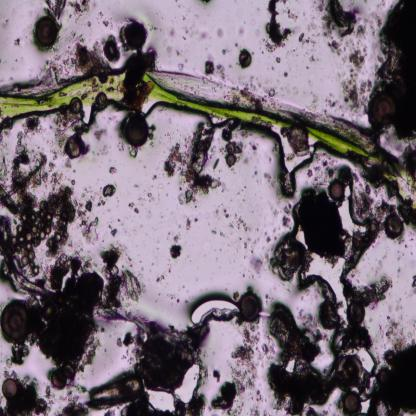Air bubble: (189, 296, 239, 326), (174, 362, 200, 401), (142, 387, 175, 413), (354, 347, 375, 374)
Background material: (36, 248, 107, 384), (319, 284, 378, 415), (265, 300, 319, 416), (376, 0, 416, 147), (134, 323, 209, 396), (339, 180, 382, 282), (293, 186, 347, 262), (178, 120, 219, 205), (375, 343, 415, 416), (228, 322, 260, 400), (36, 185, 76, 242), (42, 32, 84, 82), (0, 375, 51, 416), (50, 106, 88, 159), (270, 232, 308, 284), (340, 51, 372, 112), (73, 186, 105, 245), (7, 151, 51, 193), (0, 213, 30, 271), (100, 241, 122, 311), (264, 0, 291, 54), (320, 0, 355, 41), (74, 40, 111, 76), (387, 189, 416, 230), (210, 376, 242, 412), (282, 117, 311, 156), (382, 314, 411, 352), (307, 150, 337, 186), (16, 188, 38, 233), (294, 274, 334, 298), (360, 276, 392, 304), (120, 265, 143, 302), (163, 141, 184, 179), (174, 398, 208, 416), (0, 184, 19, 216), (103, 35, 123, 65), (7, 342, 28, 368), (69, 0, 92, 23), (220, 119, 240, 141), (22, 115, 43, 135), (44, 236, 60, 260), (113, 331, 134, 349), (250, 253, 264, 280), (282, 172, 295, 200), (16, 130, 31, 154), (0, 155, 9, 191), (262, 341, 276, 364), (234, 213, 250, 232), (247, 401, 265, 416), (356, 19, 368, 40), (328, 38, 342, 56), (103, 183, 117, 201), (90, 147, 112, 158), (204, 59, 216, 79), (93, 126, 106, 144), (99, 11, 112, 29), (303, 404, 322, 416), (183, 23, 198, 38), (169, 243, 183, 259), (325, 92, 339, 108), (115, 118, 125, 139), (52, 172, 63, 191), (368, 18, 377, 41), (264, 171, 276, 188), (96, 90, 107, 108), (281, 214, 293, 230), (308, 93, 319, 110), (409, 271, 416, 297), (252, 390, 266, 403), (121, 350, 134, 364), (237, 76, 249, 91), (216, 64, 226, 82), (11, 34, 23, 49), (114, 141, 126, 155), (212, 366, 221, 384), (299, 30, 309, 46), (282, 203, 294, 216), (286, 7, 297, 21), (148, 123, 157, 140), (164, 40, 174, 55), (393, 298, 403, 313), (264, 85, 276, 97), (124, 254, 134, 268), (148, 24, 162, 34), (250, 237, 258, 254), (236, 139, 244, 156), (373, 13, 382, 28), (199, 29, 210, 41), (272, 142, 282, 155), (218, 181, 228, 193), (167, 25, 176, 38), (63, 157, 72, 170), (108, 165, 118, 176), (249, 74, 255, 92), (154, 274, 164, 284), (245, 284, 255, 294), (109, 226, 118, 237), (173, 233, 182, 244), (0, 128, 9, 139), (130, 146, 138, 158), (249, 142, 257, 154), (186, 217, 192, 232), (48, 161, 56, 172), (166, 293, 177, 301), (307, 22, 317, 30), (199, 0, 212, 6), (216, 28, 224, 37), (242, 156, 251, 164), (232, 292, 240, 301), (146, 210, 153, 220), (223, 208, 229, 219), (267, 154, 273, 165), (67, 239, 74, 248), (252, 169, 259, 178), (156, 192, 161, 204), (264, 293, 269, 305), (175, 48, 181, 58), (166, 132, 173, 140), (221, 48, 228, 56), (177, 63, 184, 71), (216, 209, 221, 220), (242, 240, 247, 251), (310, 38, 316, 47), (151, 173, 157, 182), (134, 181, 140, 190), (255, 29, 261, 38), (228, 221, 235, 228), (156, 238, 160, 250), (178, 284, 184, 292), (275, 56, 281, 64), (396, 266, 402, 274), (166, 231, 171, 240), (238, 28, 244, 35), (133, 208, 139, 215), (158, 183, 165, 189), (266, 236, 272, 243), (128, 202, 135, 208), (210, 228, 217, 234), (175, 0, 180, 8), (309, 54, 314, 62), (180, 35, 188, 40), (70, 179, 76, 185), (146, 192, 152, 198), (283, 71, 288, 78), (220, 231, 225, 238), (86, 20, 91, 27), (137, 197, 144, 202), (13, 218, 18, 225), (168, 264, 172, 272), (100, 326, 104, 334), (184, 298, 188, 305), (182, 14, 186, 21), (251, 20, 255, 27), (235, 190, 240, 195), (120, 223, 125, 228), (305, 65, 310, 70), (194, 216, 198, 222), (184, 58, 188, 64), (194, 203, 198, 209), (144, 164, 147, 171), (165, 192, 168, 199), (177, 298, 180, 304), (242, 185, 246, 189), (404, 245, 408, 249), (242, 198, 246, 202), (224, 286, 228, 290), (239, 236, 242, 241), (235, 42, 238, 47), (150, 263, 154, 266), (116, 219, 119, 223), (219, 247, 222, 251), (139, 260, 142, 264), (264, 231, 267, 235), (243, 273, 245, 279), (271, 66, 274, 70), (364, 0, 367, 4), (256, 228, 258, 233), (160, 215, 163, 218), (37, 146, 40, 149)
Cellulose filter fibre: (95, 304, 171, 339), (0, 266, 53, 295)
Diatom: (86, 371, 144, 410), (0, 297, 33, 345), (124, 114, 151, 147), (372, 90, 395, 127), (35, 15, 58, 49), (342, 298, 366, 326), (240, 293, 262, 323), (124, 22, 146, 50), (383, 211, 403, 239), (342, 390, 361, 414), (50, 368, 68, 392), (328, 178, 344, 200), (65, 138, 82, 158), (378, 368, 394, 387), (374, 396, 389, 416), (2, 378, 16, 399), (238, 49, 252, 69), (70, 96, 83, 115), (54, 0, 66, 18), (40, 302, 54, 316), (226, 154, 236, 168), (27, 250, 36, 261), (212, 158, 220, 170), (228, 143, 235, 154), (55, 231, 61, 243), (17, 235, 25, 243), (31, 225, 38, 234), (26, 233, 33, 242), (21, 256, 28, 265), (16, 225, 23, 233), (33, 266, 39, 275), (26, 243, 32, 251), (46, 214, 52, 222), (46, 226, 52, 233), (39, 211, 45, 218), (39, 231, 45, 238), (12, 237, 18, 244), (22, 214, 27, 222)
